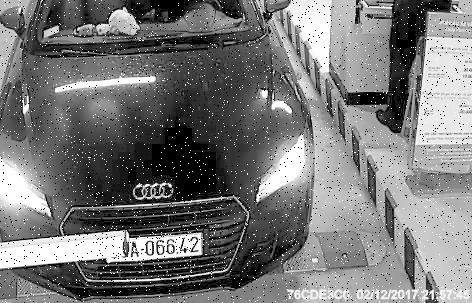License-plate: (100, 224, 219, 278)
